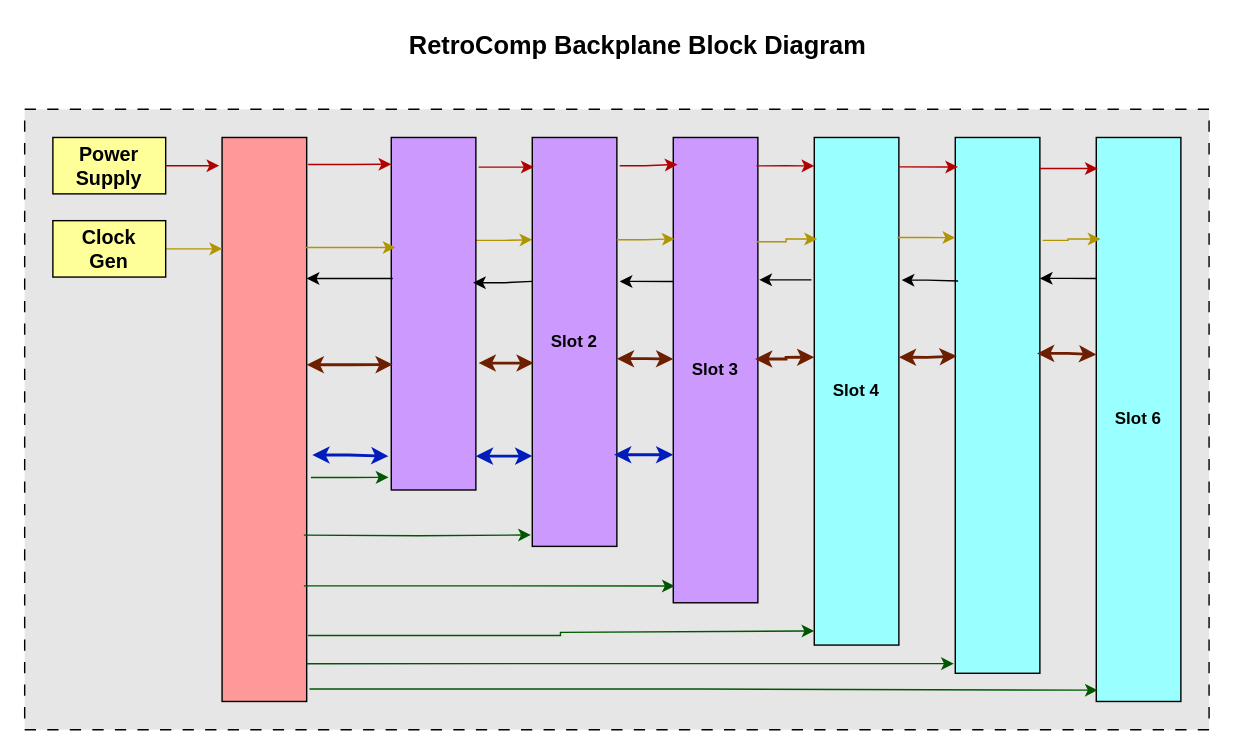
Image size: 1234x754. Some labels were removed from this diagram. Each missing label, with the box of its shape:
Slot 0: (221, 136, 307, 701)
Slot 1: (390, 136, 476, 490)
Slot 5: (954, 136, 1040, 673)
